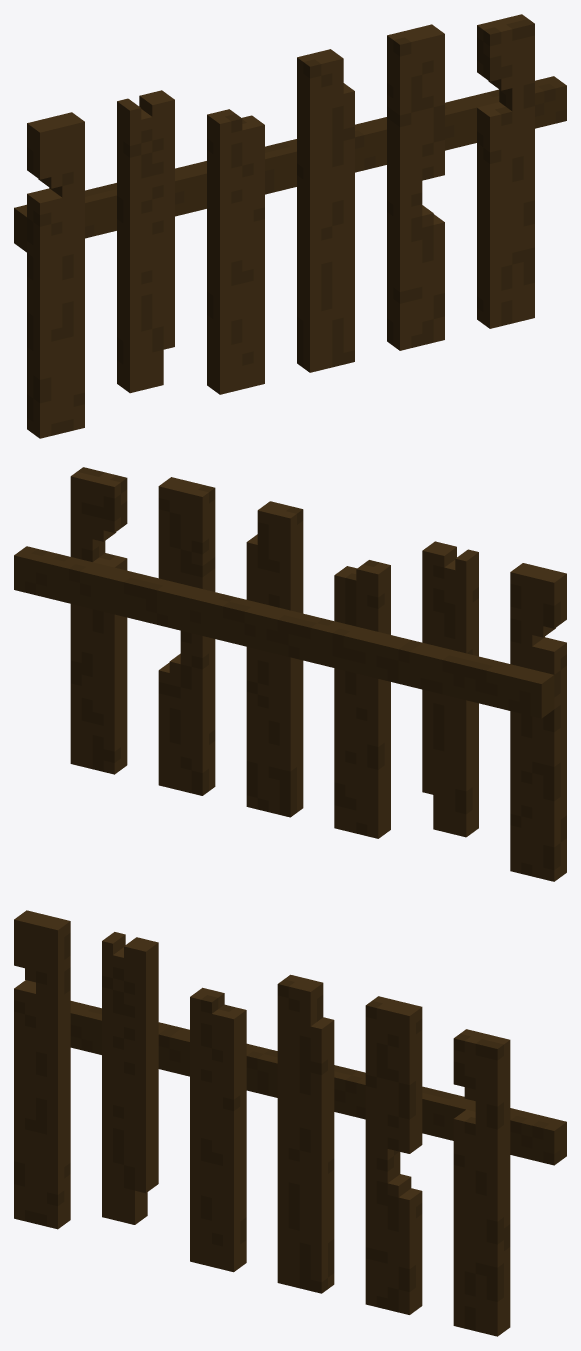
File: SkeletonLair-11.obj
3 renders of one model, top to bottom at view 1: azimuth 30°, elevation 25°; view 2: azimuth 150°, elevation 25°; view 3: azimuth 330°, elevation 25°, orthographic. The views are drawn at different scales.
Size of the model in its own units: 4.8 by 2.6 by 0.4.
1 material, 1 textured.
